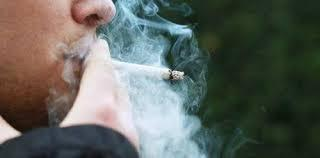smoker: (6, 1, 202, 155)
